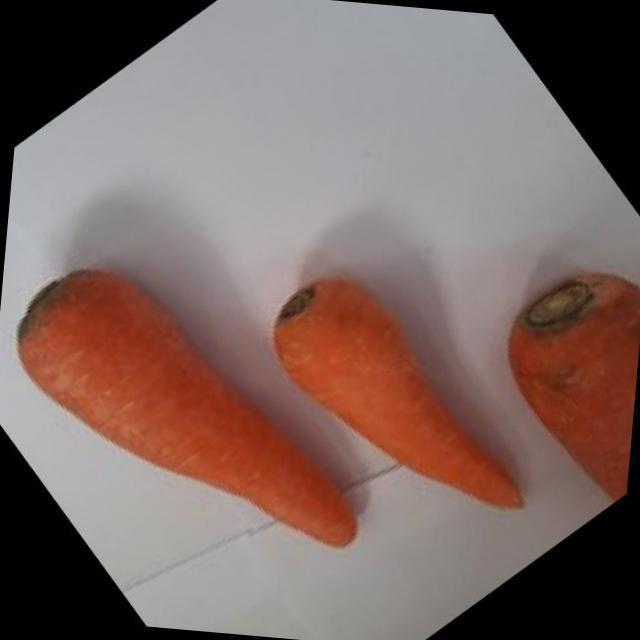carrot: (19, 270, 356, 546), (275, 278, 521, 507), (510, 274, 640, 499)
